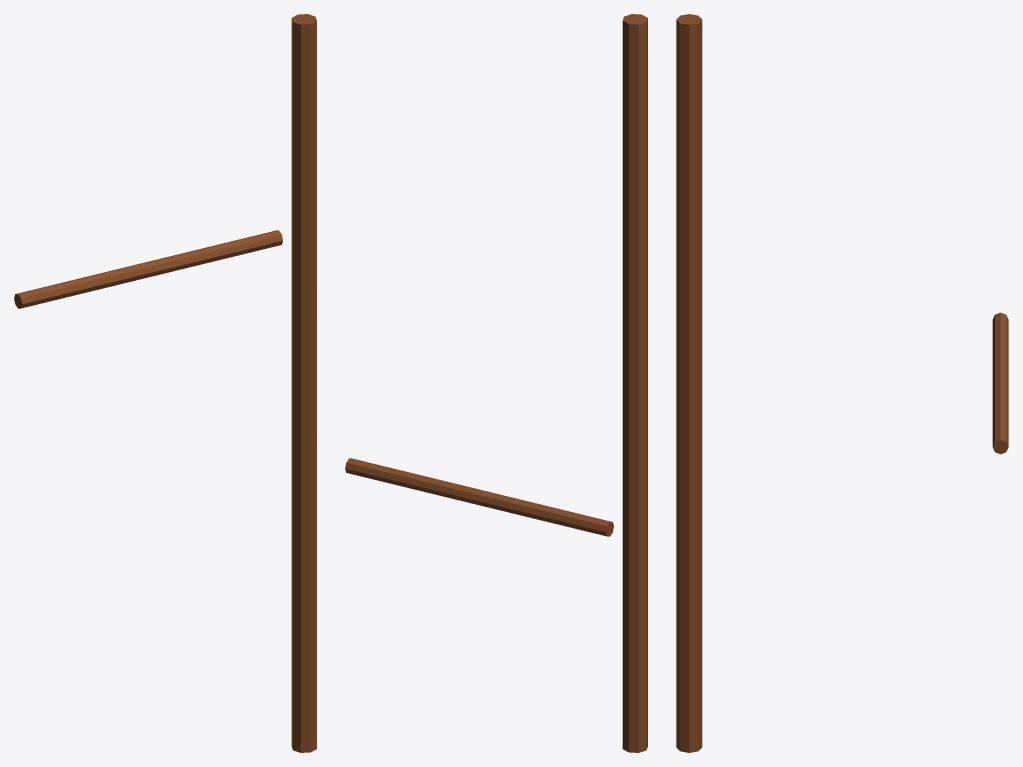
File: utility_pole.glb
3 renders of one model, left to right at view 1: azimuth 30°, elevation 25°; view 2: azimuth 150°, elevation 25°; view 3: azimuth 270°, elevation 25°, orthographic.
Parts seen in each view (by area): view 1: pole, crossbar; view 2: pole, crossbar; view 3: pole, crossbar.
Boxes of the visible parts, <box> form: pole: <box>291,14,316,752</box>; crossbar: <box>14,230,282,308</box>; pole: <box>622,14,647,752</box>; crossbar: <box>345,458,613,536</box>; pole: <box>676,14,702,752</box>; crossbar: <box>992,312,1008,454</box>.
Size of the model in its own units: 3 by 8 by 3.31.
